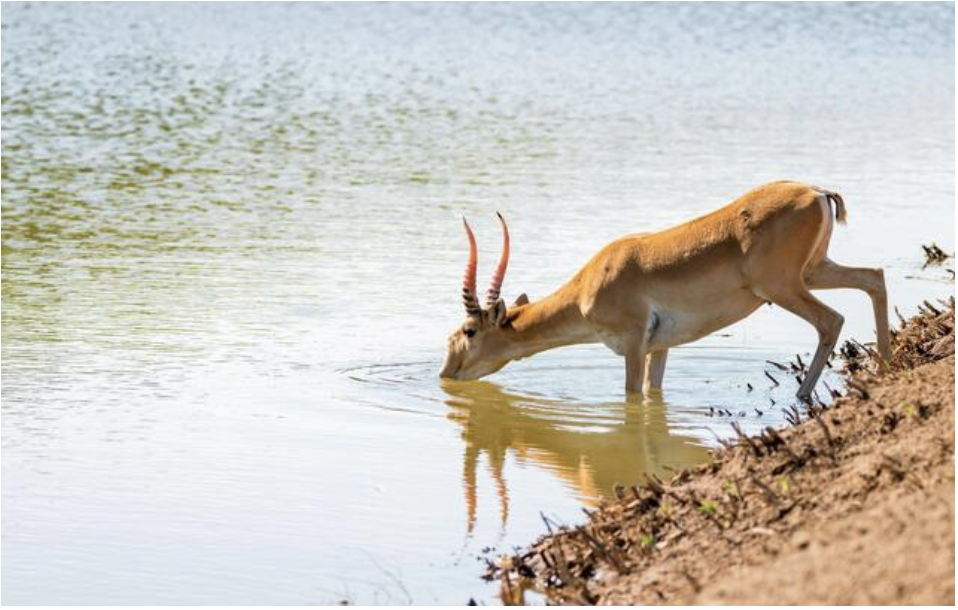saiga: (424, 175, 908, 415)
